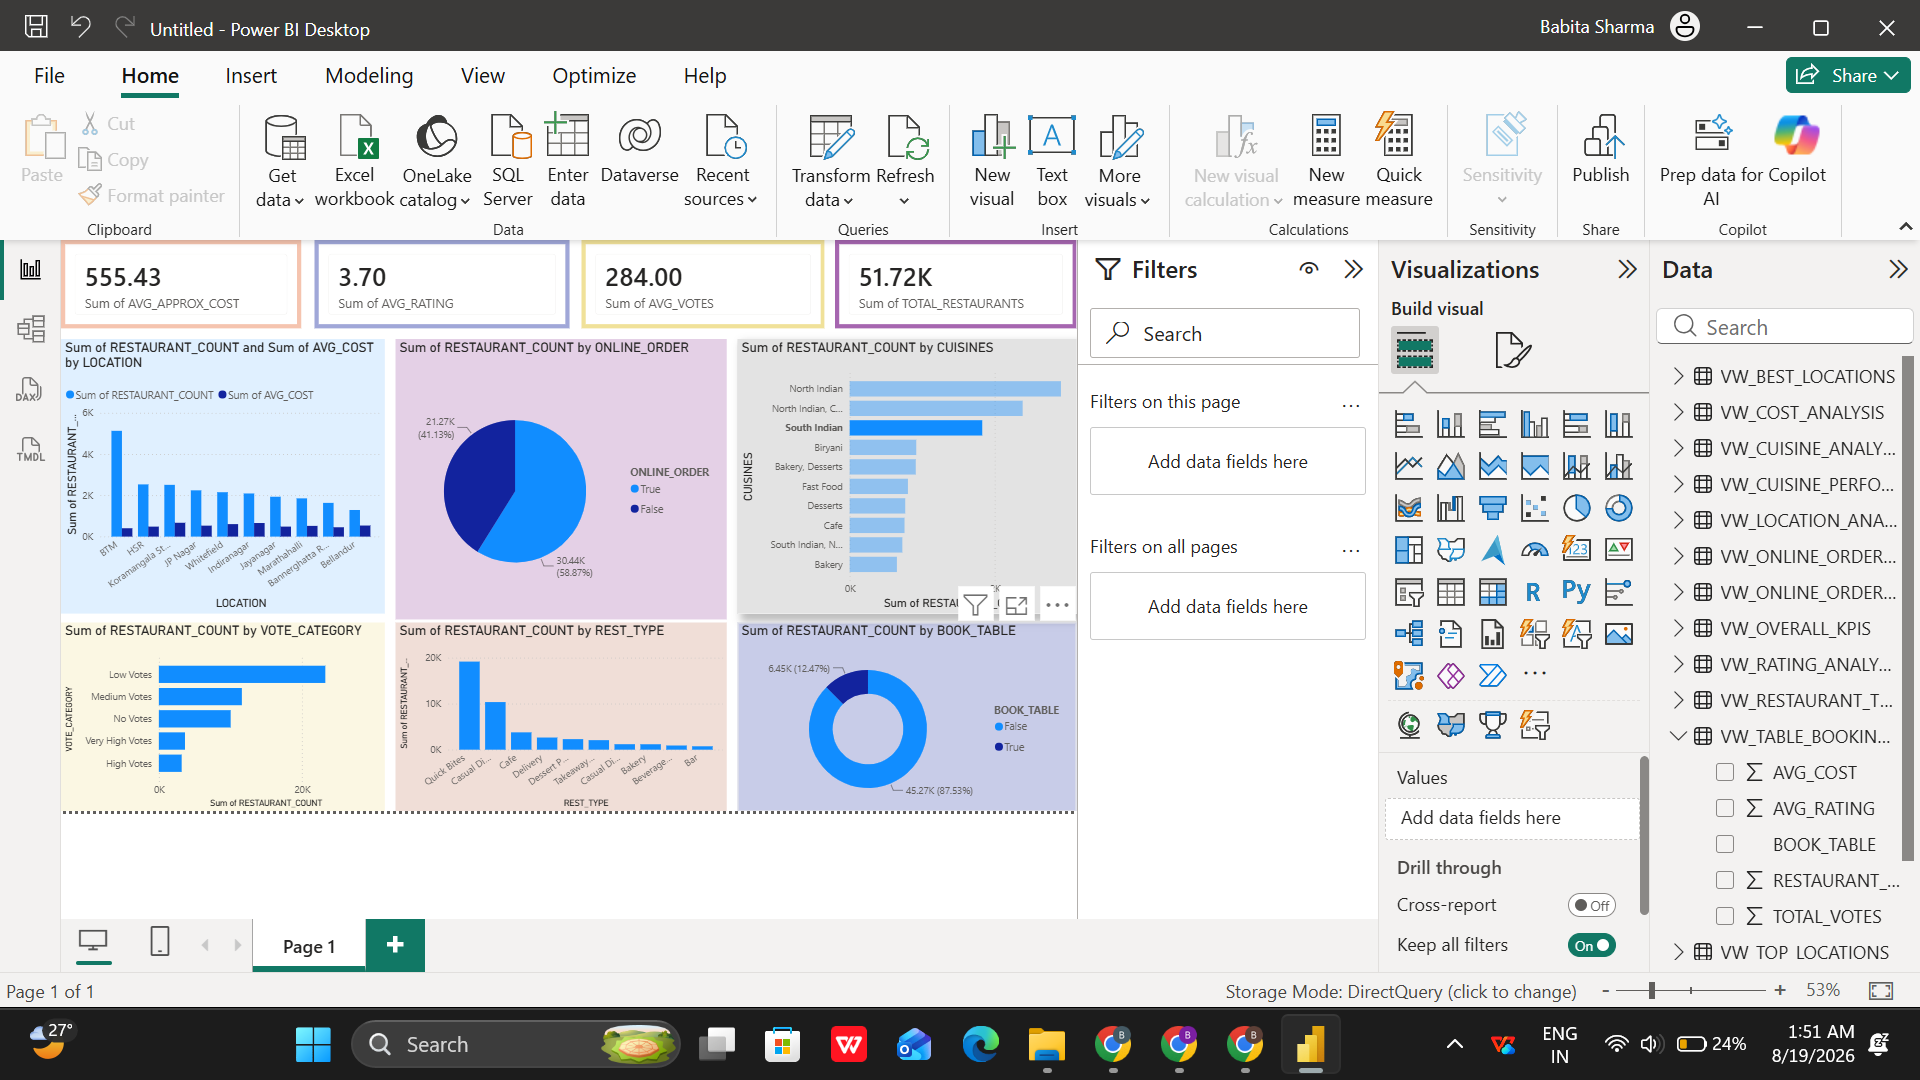

What the dashboard file says about the page in this screenshot:
{"tool":"powerbi","page":{"name":"Page 1","canvas":[1280,720],"ordinal":0},"visuals":[{"type":"cardVisual","fields":{"Data":["Sum(VW_OVERALL_KPIS.AVG_APPROX_COST)"]},"box":[0,0,302.4,111.5],"z":0},{"type":"cardVisual","fields":{"Data":["Sum(VW_OVERALL_KPIS.AVG_RATING)"]},"box":[319.4,0,321.3,111.5],"z":1},{"type":"cardVisual","fields":{"Data":["Sum(VW_OVERALL_KPIS.AVG_VOTES)"]},"box":[655.8,0,306.1,111.5],"z":2},{"type":"cardVisual","fields":{"Data":["Sum(VW_OVERALL_KPIS.TOTAL_RESTAURANTS)"]},"box":[975.1,0,304.3,111.5],"z":3},{"type":"clusteredColumnChart","fields":{"Category":["VW_LOCATION_ANALYSIS.LOCATION"],"Y":["Sum(VW_LOCATION_ANALYSIS.RESTAURANT_COUNT)","Sum(VW_LOCATION_ANALYSIS.AVG_COST)"]},"box":[0,124.7,408.2,345.8],"z":4},{"type":"barChart","fields":{"Category":["VW_CUISINE_ANALYSIS.CUISINES"],"Y":["Sum(VW_CUISINE_ANALYSIS.RESTAURANT_COUNT)"]},"box":[852.3,124.7,427.1,345.8],"z":5},{"type":"clusteredBarChart","fields":{"Category":["VW_VOTE_ANALYSIS.VOTE_CATEGORY"],"Y":["Sum(VW_VOTE_ANALYSIS.RESTAURANT_COUNT)"]},"box":[0,481.9,408.2,238.1],"z":6},{"type":"columnChart","fields":{"Category":["VW_RESTAURANT_TYPE_ANALYSIS.REST_TYPE"],"Y":["Sum(VW_RESTAURANT_TYPE_ANALYSIS.RESTAURANT_COUNT)"]},"box":[421.4,481.9,417.6,238.1],"z":7},{"type":"pieChart","fields":{"Category":["VW_ONLINE_ORDER_ANALYSIS.ONLINE_ORDER"],"Y":["Sum(VW_ONLINE_ORDER_ANALYSIS.RESTAURANT_COUNT)"]},"box":[421.4,124.7,417.6,353.4],"z":8},{"type":"donutChart","fields":{"Category":["VW_TABLE_BOOKING_ANALYSIS.BOOK_TABLE"],"Y":["Sum(VW_TABLE_BOOKING_ANALYSIS.RESTAURANT_COUNT)"]},"box":[852.3,481.9,427.1,238.1],"z":9}]}

Visuals, with their boxes on the page's 1280x720 design canvas (x1, y1, x2, y2). These are canvas units, not pixel positions in the 1920x1080 screenshot, which may show the page scaled, cropped or inside an application window:
cardVisual - Sum(VW_OVERALL_KPIS.AVG_APPROX_COST): {"x1": 0, "y1": 0, "x2": 302, "y2": 112}
cardVisual - Sum(VW_OVERALL_KPIS.AVG_RATING): {"x1": 319, "y1": 0, "x2": 641, "y2": 112}
cardVisual - Sum(VW_OVERALL_KPIS.AVG_VOTES): {"x1": 656, "y1": 0, "x2": 962, "y2": 112}
cardVisual - Sum(VW_OVERALL_KPIS.TOTAL_RESTAURANTS): {"x1": 975, "y1": 0, "x2": 1279, "y2": 112}
clusteredColumnChart - VW_LOCATION_ANALYSIS.LOCATION x Sum(VW_LOCATION_ANALYSIS.RESTAURANT_COUNT): {"x1": 0, "y1": 125, "x2": 408, "y2": 470}
barChart - VW_CUISINE_ANALYSIS.CUISINES x Sum(VW_CUISINE_ANALYSIS.RESTAURANT_COUNT): {"x1": 852, "y1": 125, "x2": 1279, "y2": 470}
clusteredBarChart - VW_VOTE_ANALYSIS.VOTE_CATEGORY x Sum(VW_VOTE_ANALYSIS.RESTAURANT_COUNT): {"x1": 0, "y1": 482, "x2": 408, "y2": 720}
columnChart - VW_RESTAURANT_TYPE_ANALYSIS.REST_TYPE x Sum(VW_RESTAURANT_TYPE_ANALYSIS.RESTAURANT_COUNT): {"x1": 421, "y1": 482, "x2": 839, "y2": 720}
pieChart - VW_ONLINE_ORDER_ANALYSIS.ONLINE_ORDER x Sum(VW_ONLINE_ORDER_ANALYSIS.RESTAURANT_COUNT): {"x1": 421, "y1": 125, "x2": 839, "y2": 478}
donutChart - VW_TABLE_BOOKING_ANALYSIS.BOOK_TABLE x Sum(VW_TABLE_BOOKING_ANALYSIS.RESTAURANT_COUNT): {"x1": 852, "y1": 482, "x2": 1279, "y2": 720}
